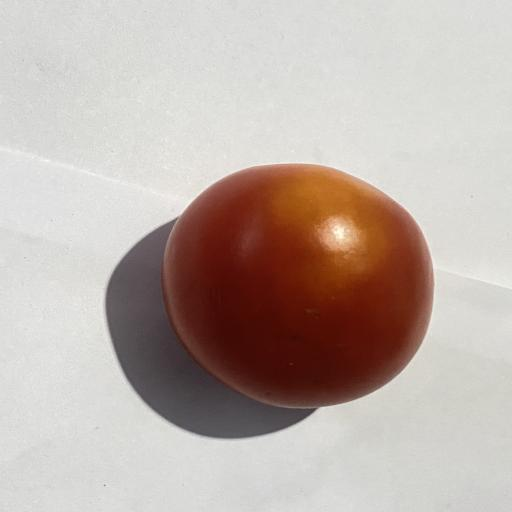ripe: (162, 165, 433, 408)
